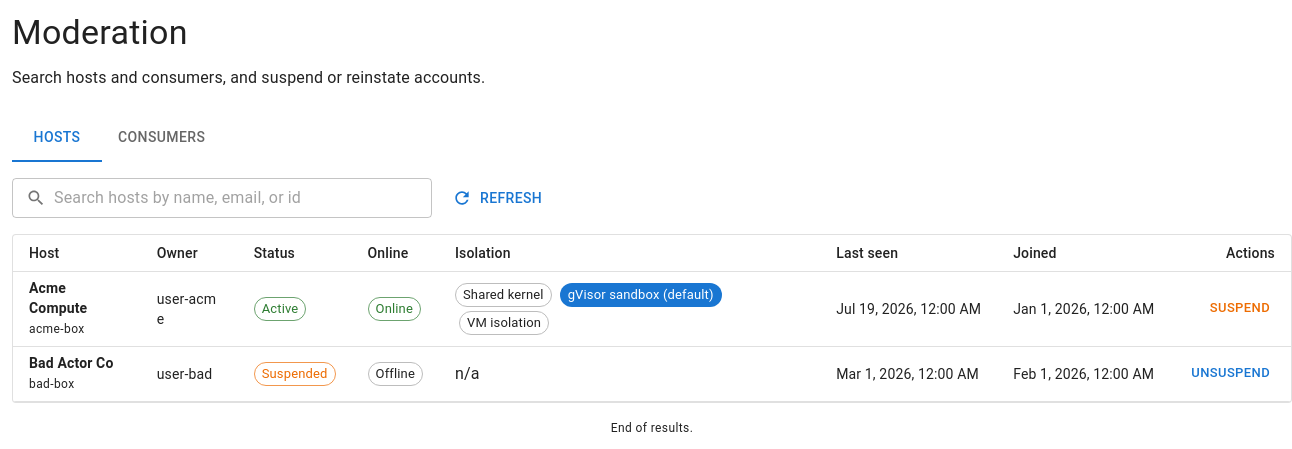
Test: Moderation › switches to the consumers tab and lists users
This screenshot has width=1292, height=449.
Expected: the text "Acme Compute" is shown, top-left (29, 280), bottom-right (87, 316)
Click the tab "Consumers".
click(162, 138)  # box top-left (102, 114), bottom-right (221, 162)
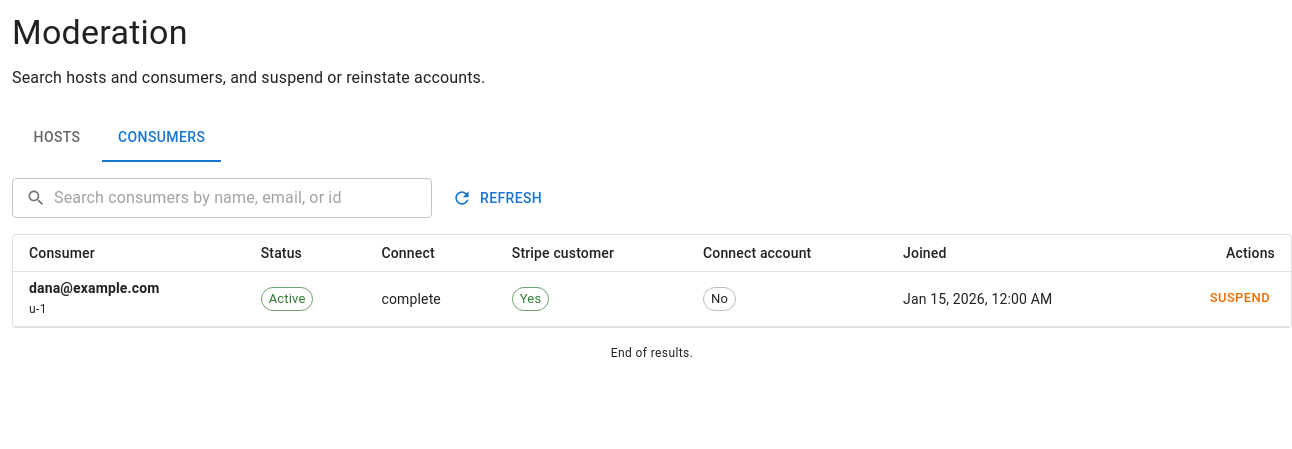
Expected: the text "dana@example.com" is shown, top-left (29, 280), bottom-right (160, 296)
